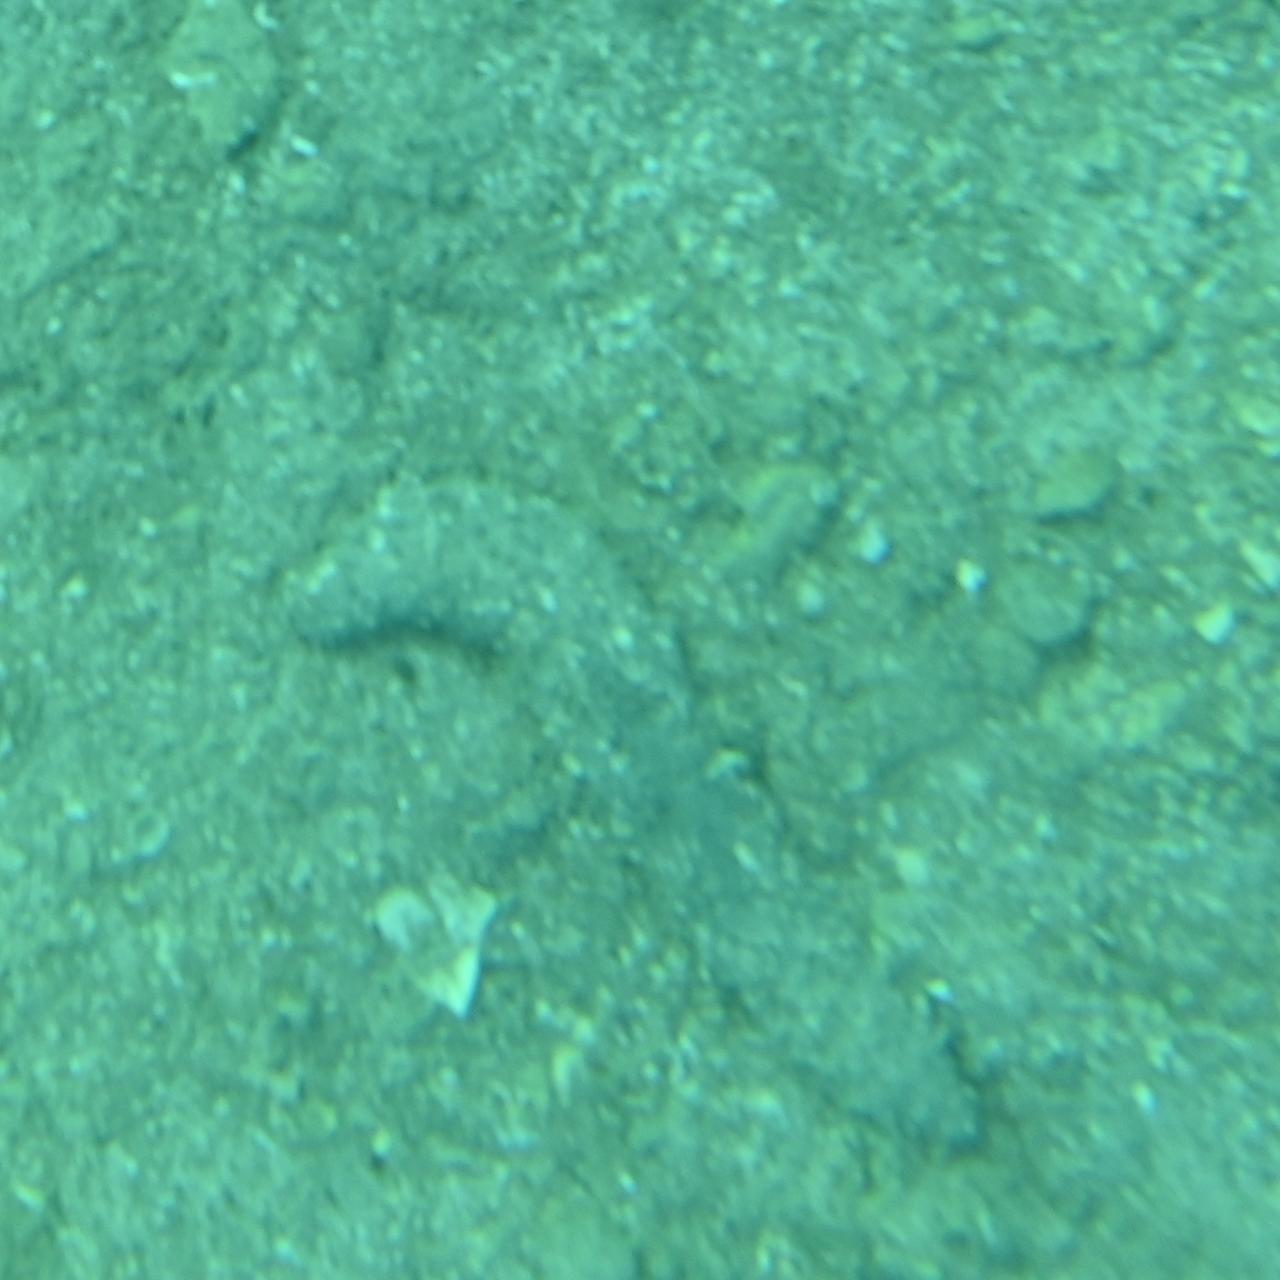Holothuria tubulosa: (267, 467, 1013, 1155)
